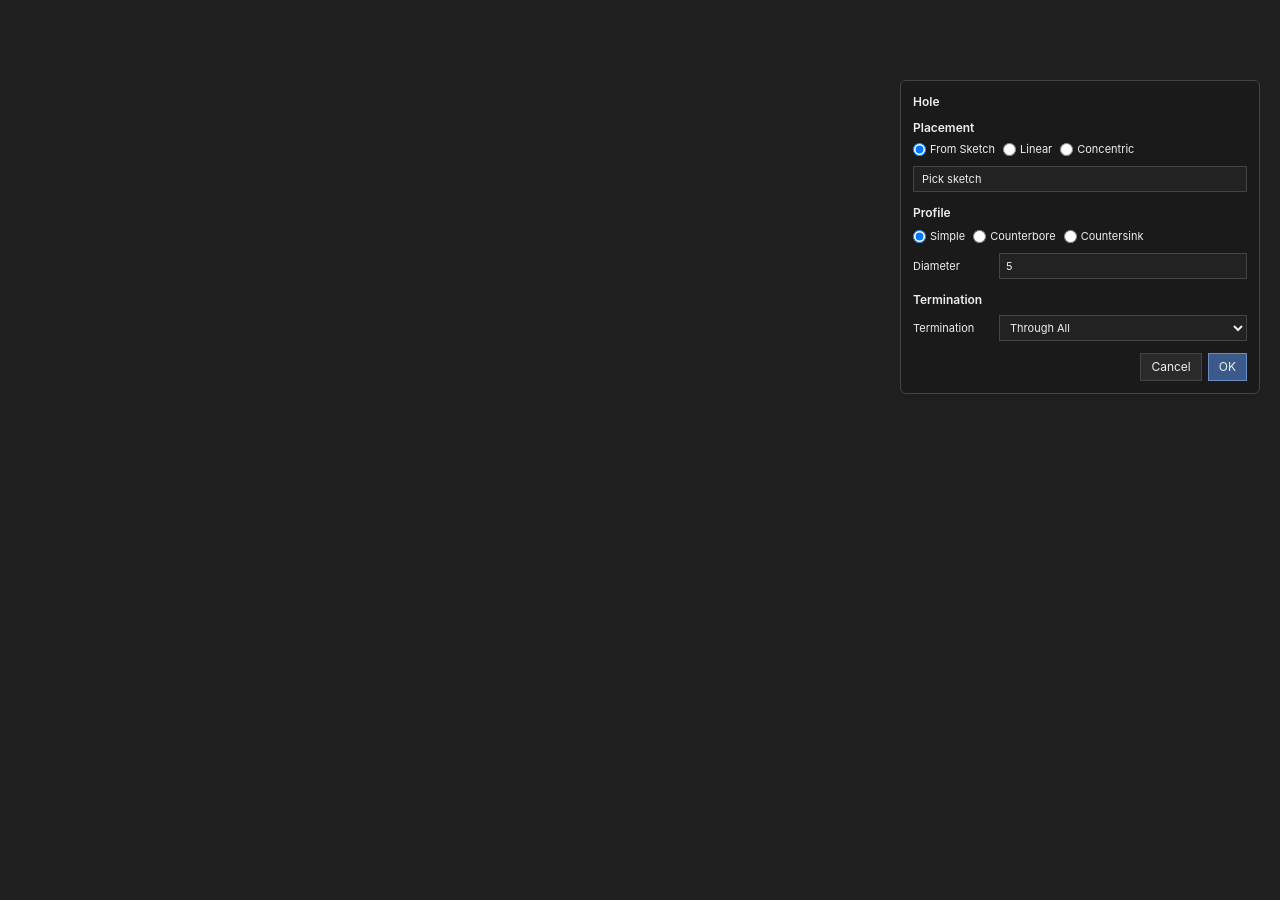
Test: HoleDialog › CBORE profile reveals cboreDiameter and cboreDepth fields
Expected: the field labelled "CBORE Ø" is not shown
Click the radio button labelled "Counterbore" at (980, 236), box [973,230,986,243]
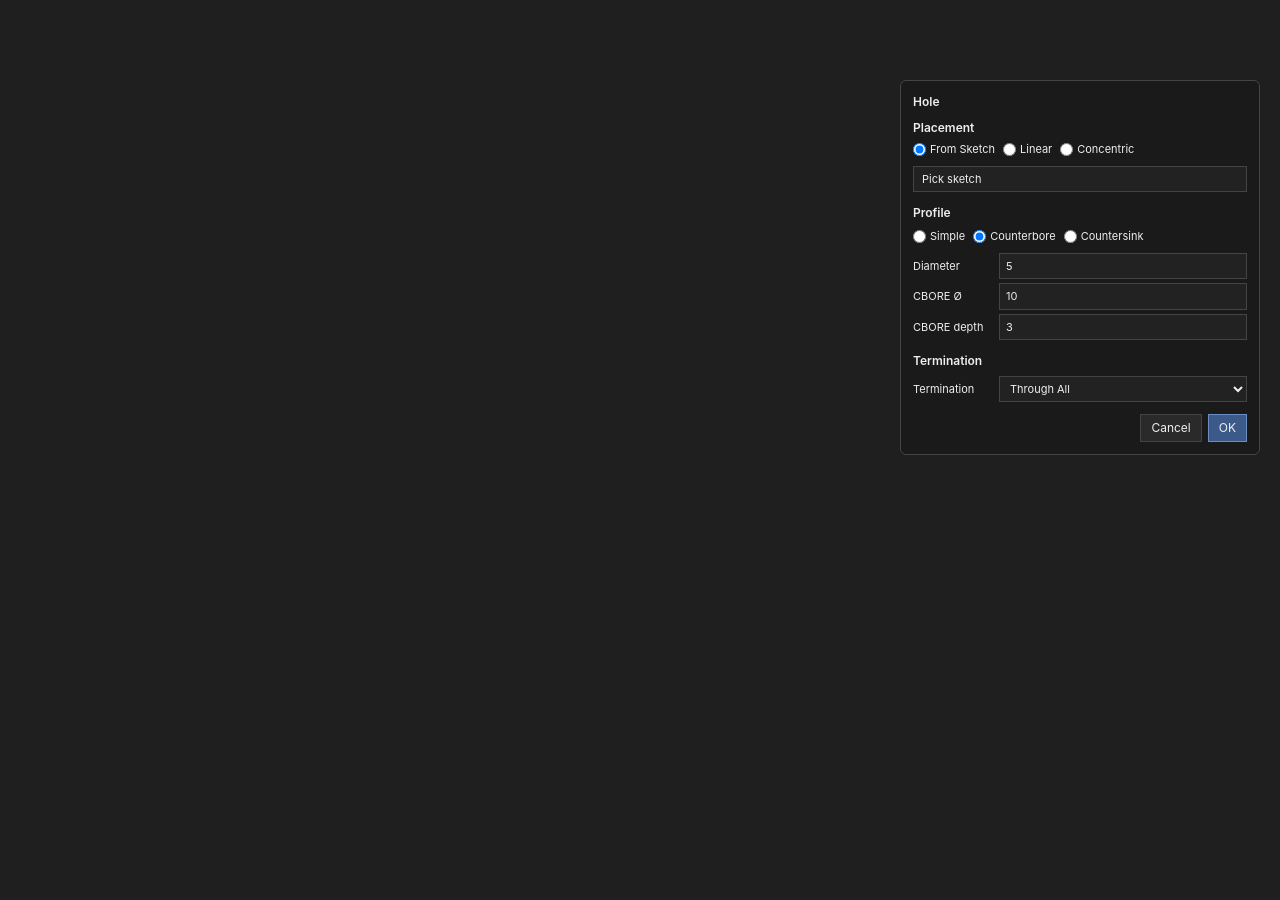
Expected: the field labelled "CBORE Ø" is shown, [999,283,1247,310]
Expected: the field labelled "CBORE depth" is shown, [999,314,1247,340]
